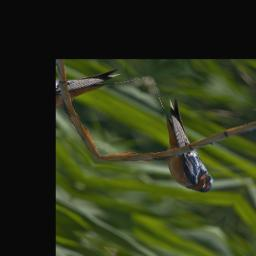Swallow: (113, 87, 248, 199)
